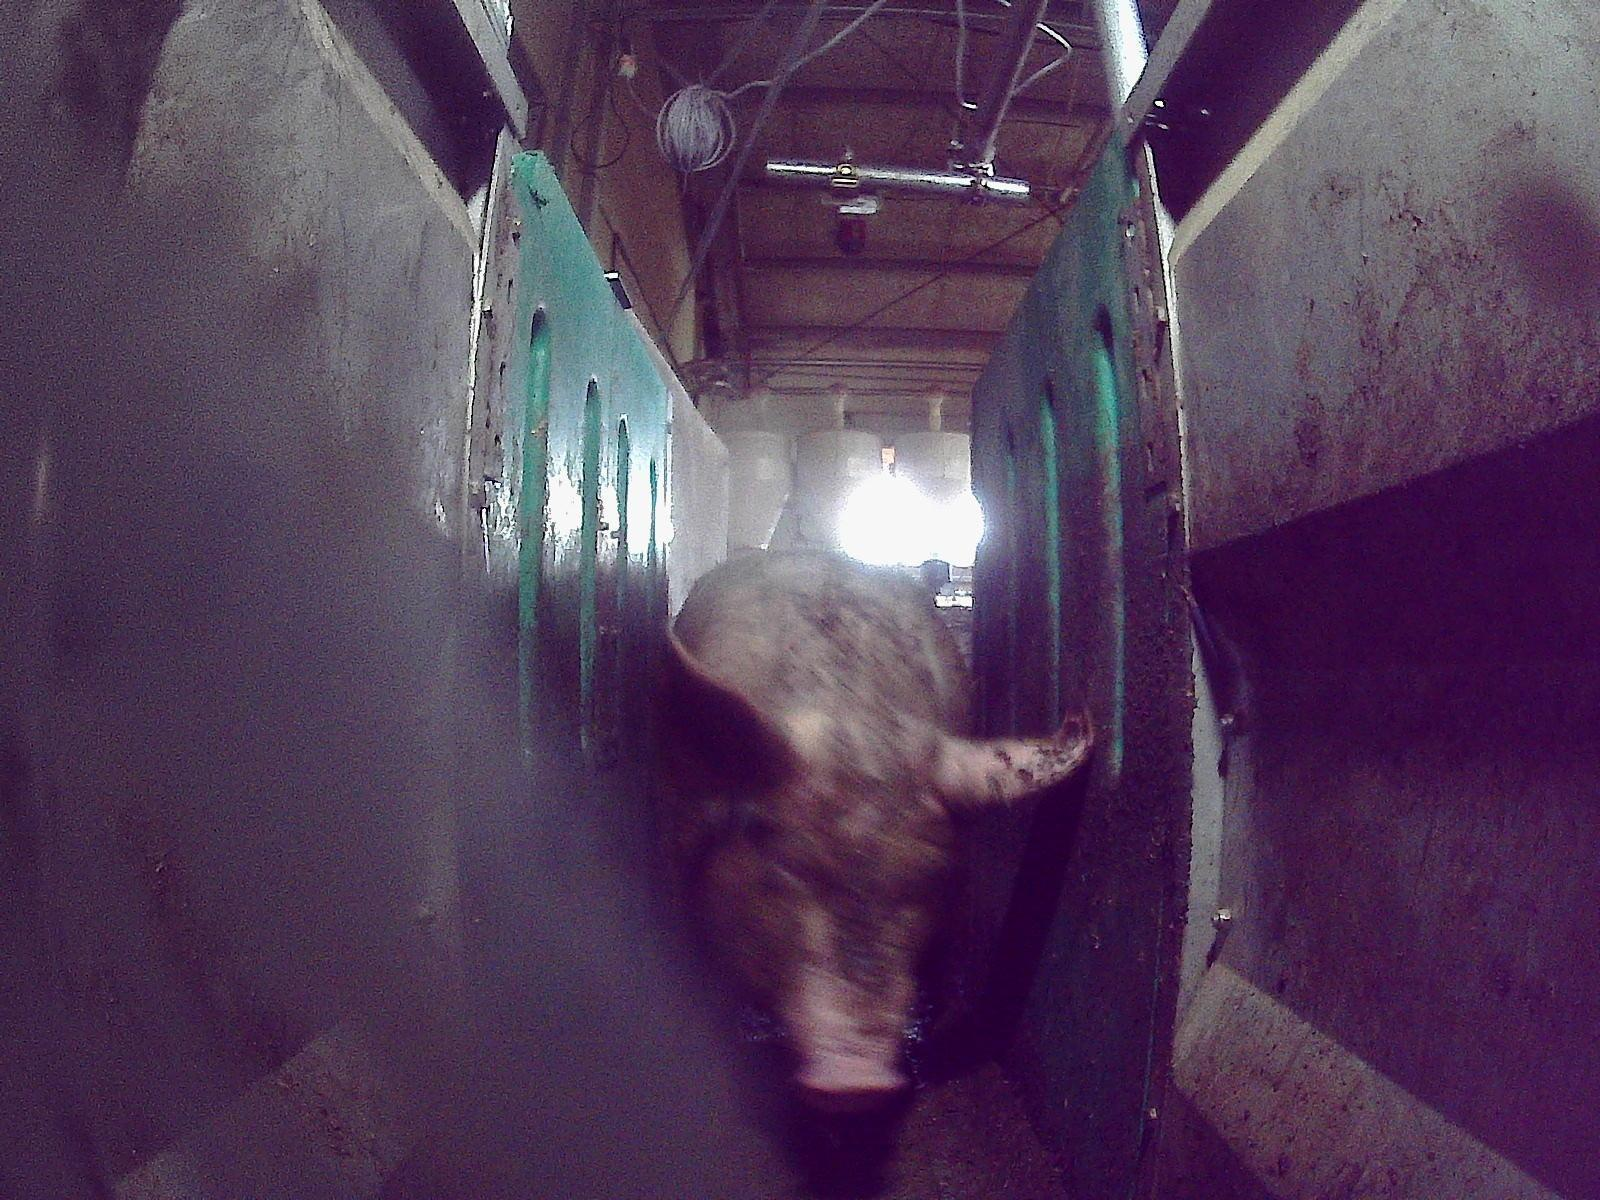Face: (694, 697, 960, 1113)
